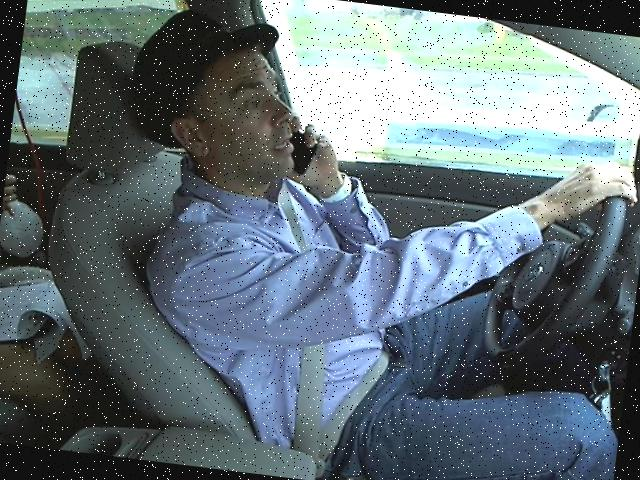c2 - Talking on the phone: (82, 0, 639, 402)
